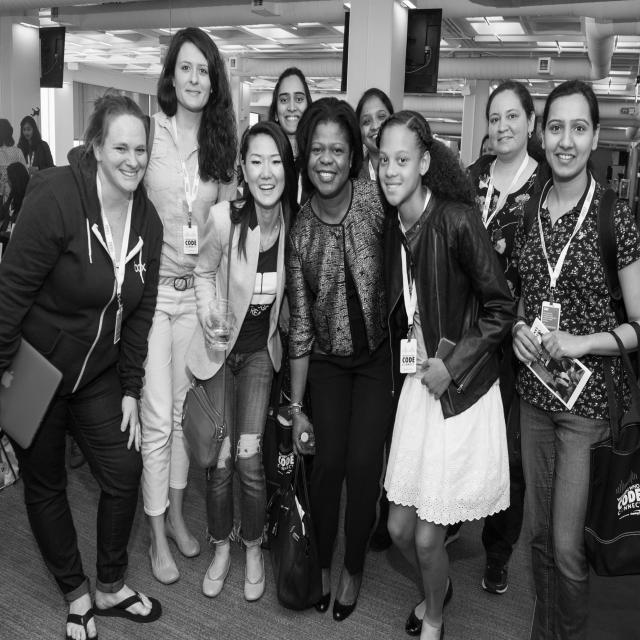person: (0, 99, 163, 620), (376, 89, 522, 626), (280, 103, 416, 626), (188, 110, 297, 618), (537, 63, 619, 640), (149, 22, 216, 589), (264, 59, 317, 179), (356, 89, 394, 178), (0, 120, 29, 210), (18, 116, 55, 174)
